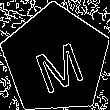M_N: (26, 28, 86, 91)
